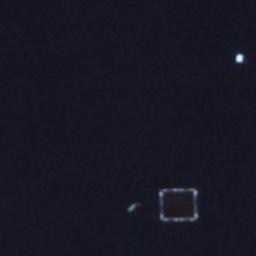square_solid: (154, 182, 203, 227)
